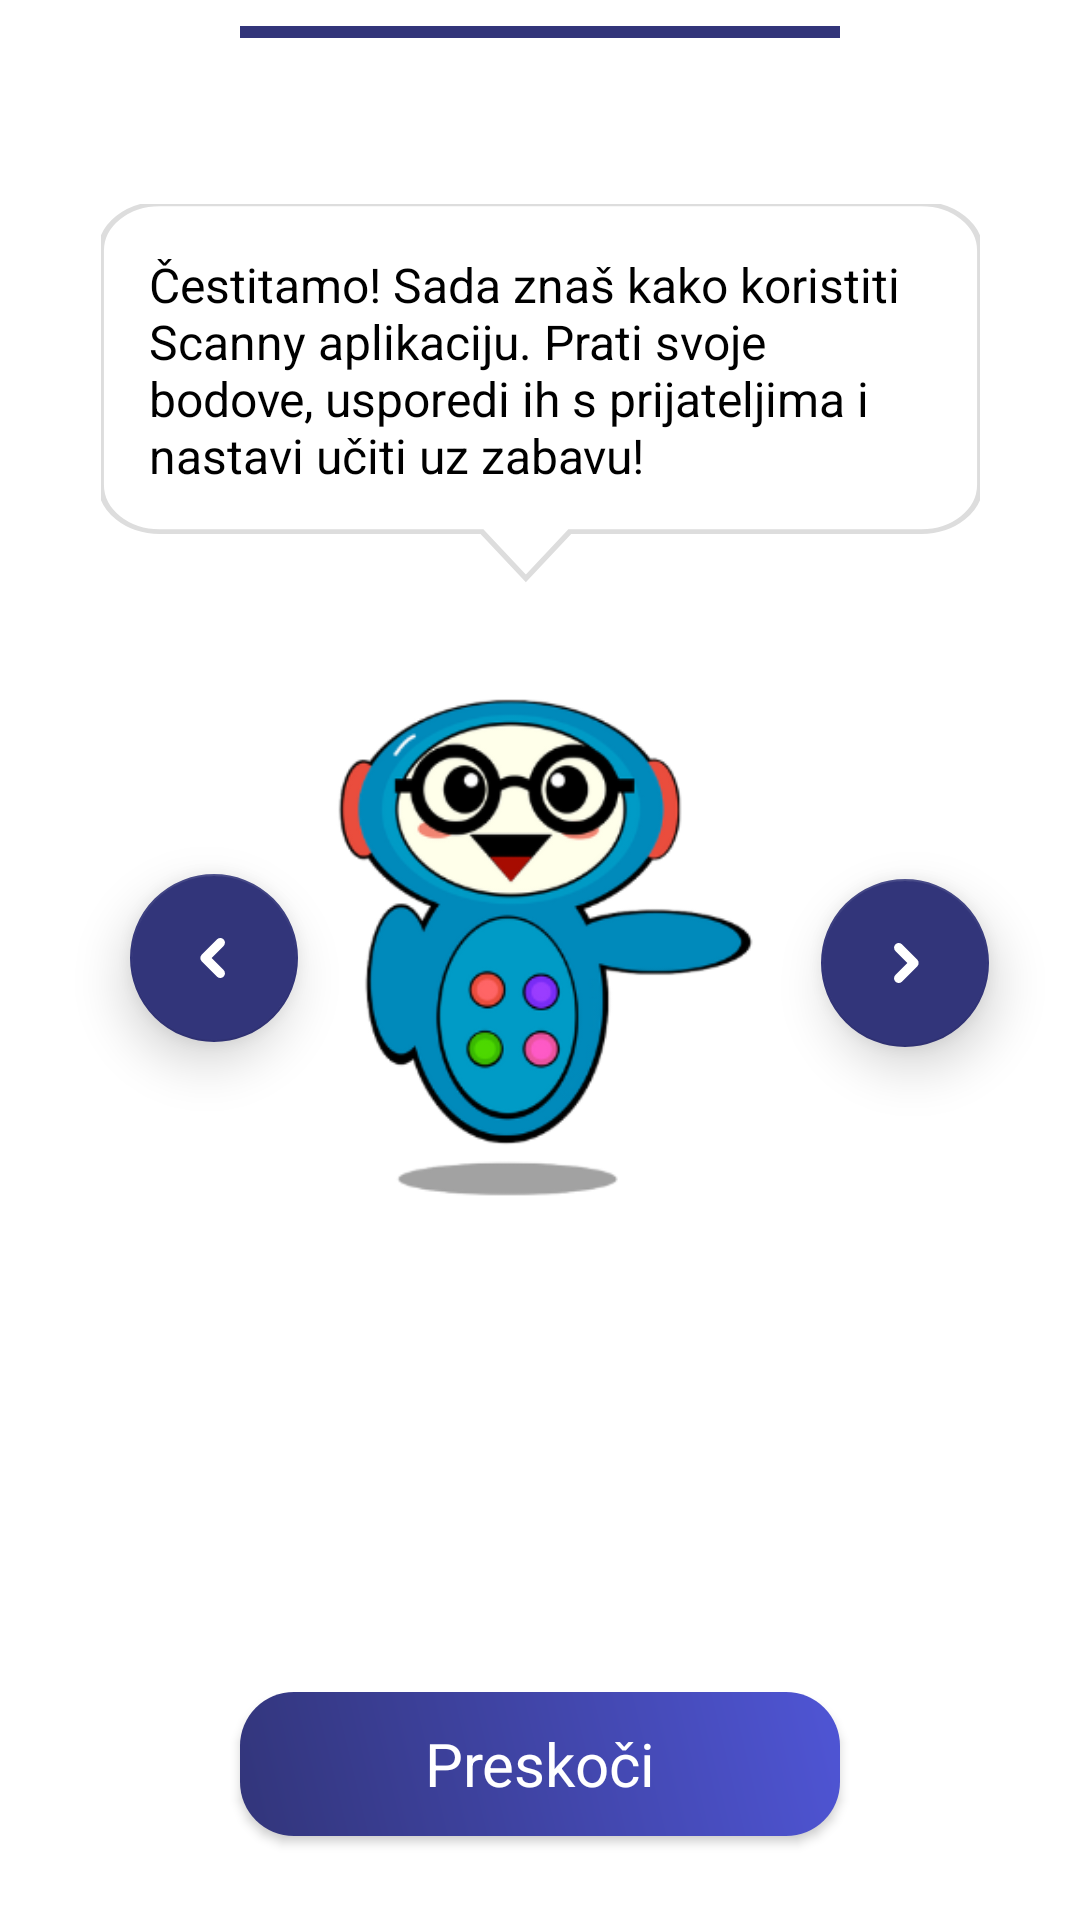

Where icons sit on this 1080px x 1920px app screen, as box(x1, y1, x2, y2):
back button: box(130, 874, 298, 1042)
Next arrow: box(821, 879, 989, 1047)
